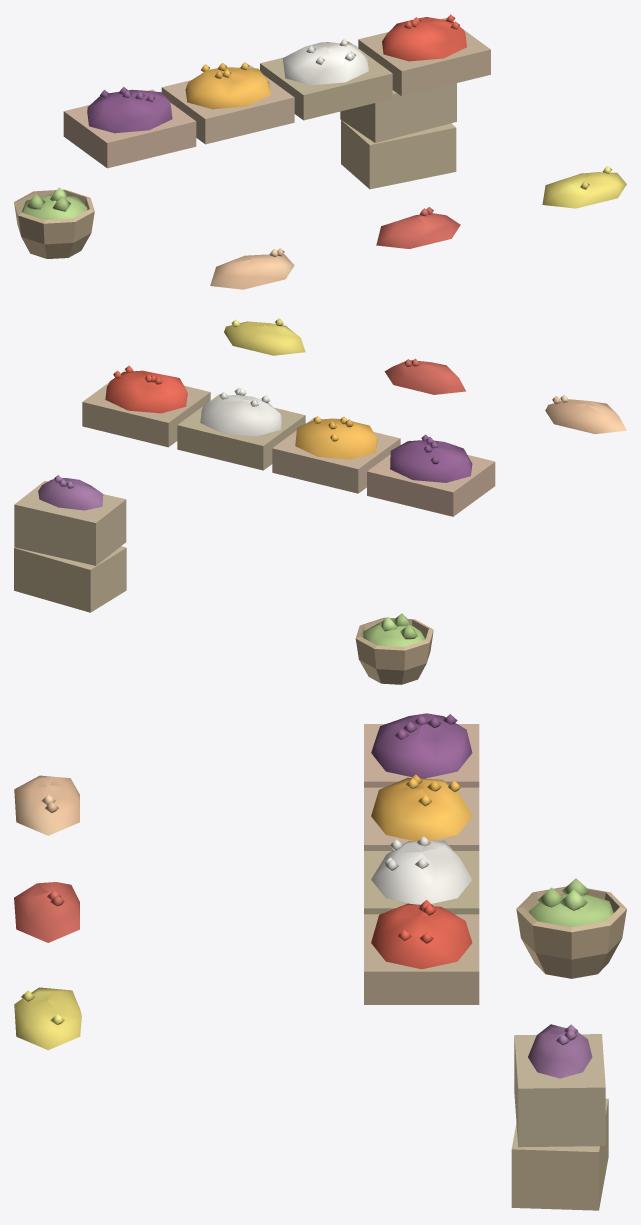
The model's file is SM_BM_BP_StallGoods_E.glb.
3 renders of one model, top to bottom at view 1: azimuth 30°, elevation 25°; view 2: azimuth 150°, elevation 25°; view 3: azimuth 270°, elevation 25°, orthographic. The views are drawn at different scales.
Visible parts, largest first — view 1: SM_BM_BP_StallGoods_E; view 2: SM_BM_BP_StallGoods_E; view 3: SM_BM_BP_StallGoods_E.
Part boxes in pixels (x1,y1,x2,y2): SM_BM_BP_StallGoods_E: [14, 14, 626, 289]; SM_BM_BP_StallGoods_E: [14, 318, 626, 684]; SM_BM_BP_StallGoods_E: [14, 713, 626, 1210].
Size of the model in its own units: 2.82 by 1.24 by 2.66.
